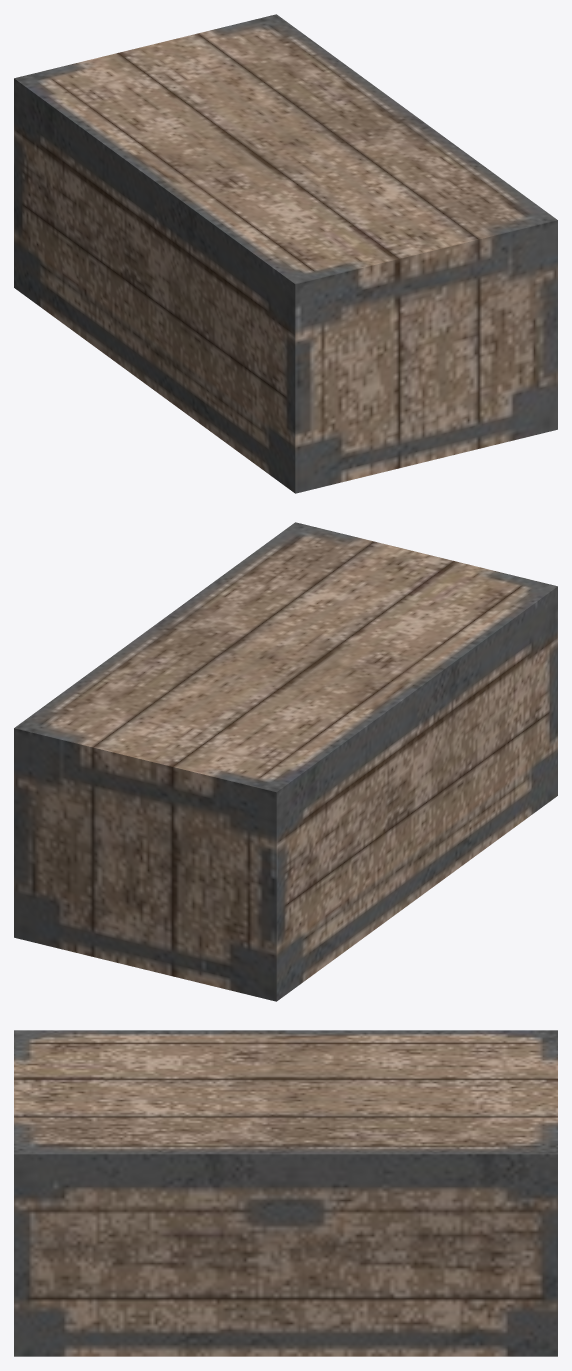
The model's file is large_wood_box_textured.glb.
3 renders of one model, top to bottom at view 1: azimuth 30°, elevation 25°; view 2: azimuth 150°, elevation 25°; view 3: azimuth 270°, elevation 25°, orthographic. The views are drawn at different scales.
Parts seen in each view (by area): view 1: Cube.004; view 2: Cube.004; view 3: Cube.004.
Boxes of the visible parts, <box> form: Cube.004: <box>14,14,557,493</box>; Cube.004: <box>14,522,557,1001</box>; Cube.004: <box>14,1030,557,1356</box>.
Bounding box in the file's own units: 0.6773 × 0.5161 × 1.26.
Materials: 1 (1 with a texture image).
